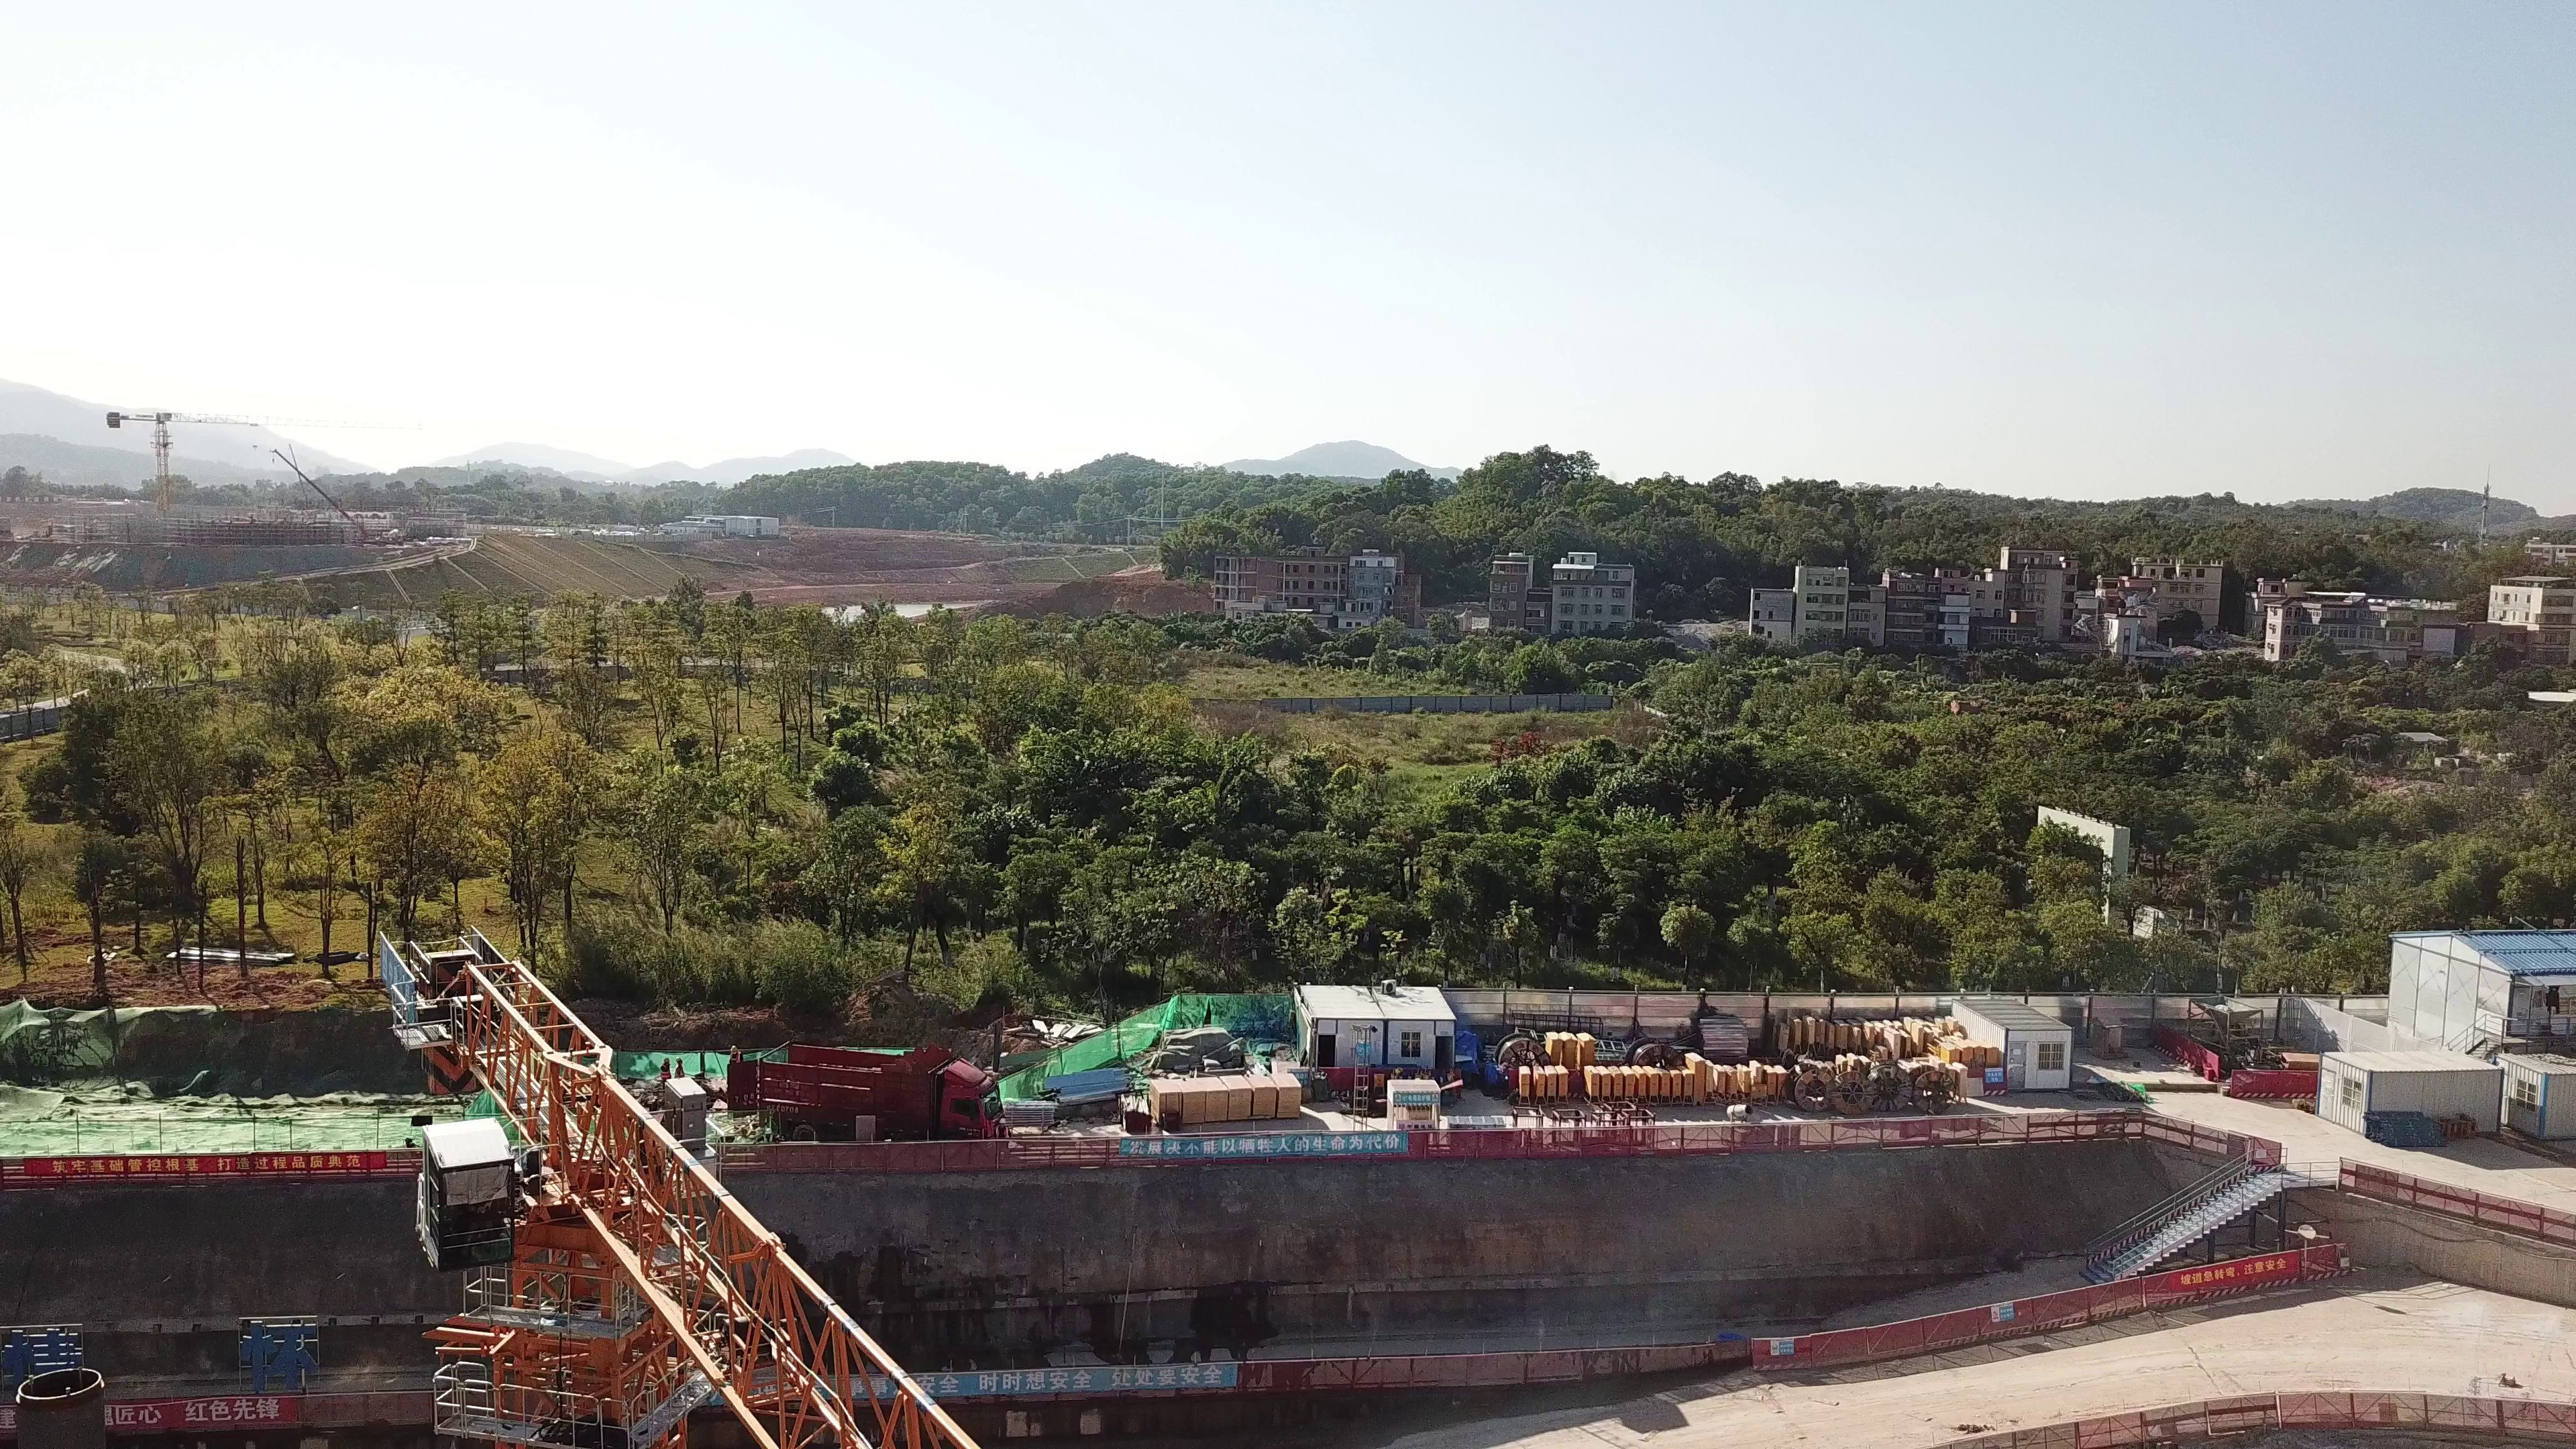fence: (1531, 971, 2254, 1052), (890, 1340, 1807, 1399), (1068, 1119, 2100, 1167)
helmet: (674, 1054, 685, 1063), (728, 1046, 738, 1051), (663, 1057, 669, 1064)
person: (658, 1058, 675, 1086), (726, 1040, 745, 1061), (675, 1056, 687, 1081)
scaffold: (1002, 1098, 1060, 1122), (1114, 1093, 1150, 1128)
slogan: (793, 1360, 1236, 1397), (25, 1403, 320, 1440), (28, 1146, 378, 1177), (2162, 1252, 2336, 1304), (1128, 1131, 1417, 1155)
vest: (661, 1064, 672, 1078), (676, 1064, 684, 1075)
wood: (1152, 1078, 1312, 1126)
